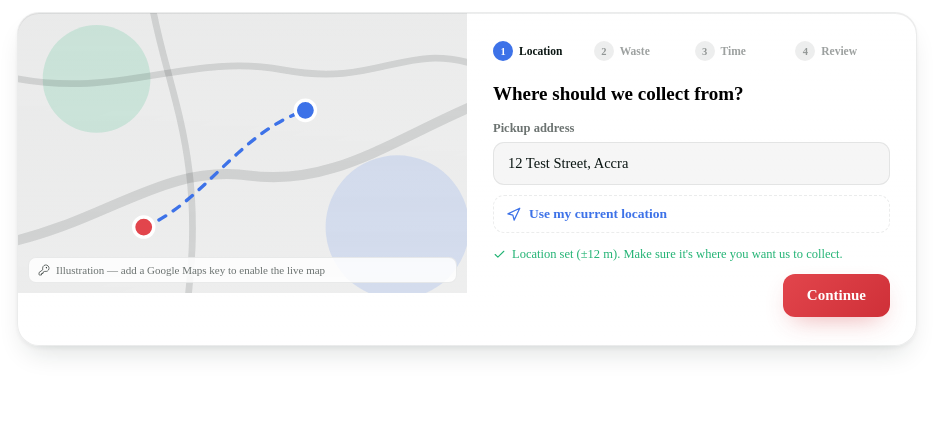
BookingFlow › shows a clear error, books nothing, and retries with the SAME idempotency key
Earlier steps of the test are not shown.
Expected: the text "Location set (±12 m). Make sure it's where you want us to collect." is shown, [493,245,890,264]
Click the button "Continue" at (836, 295), box [783,274,890,317]
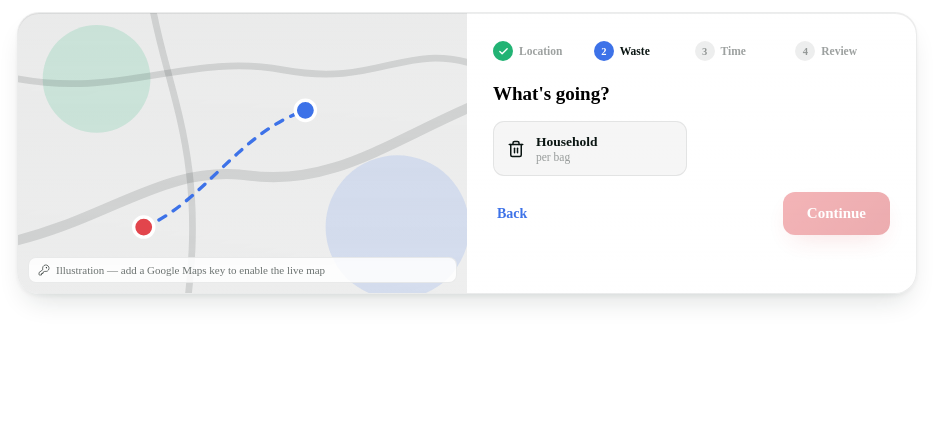
Click the button "Household per bag" at (590, 148), box [493,121,686,176]
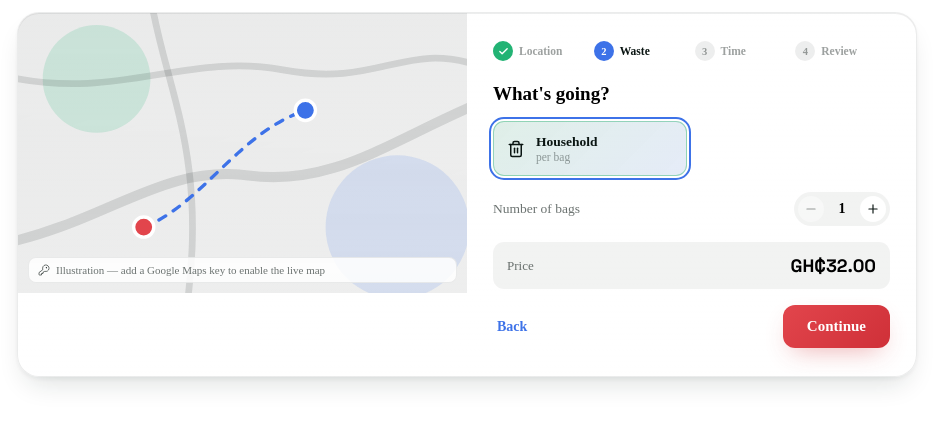
Expected: the text "GH₵32.00" is shown, [791,254,876,277]
Click the button "Continue" at (836, 326), box [783,305,890,348]
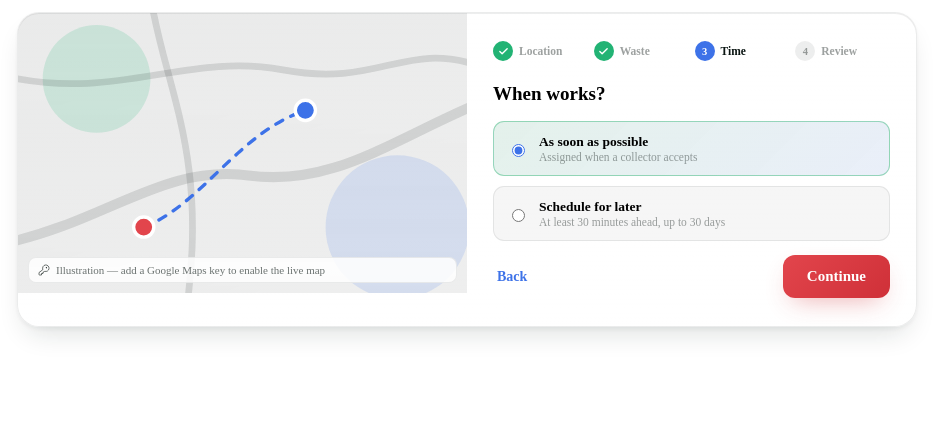
Click the button "Continue" at (836, 276), box [783,255,890,298]
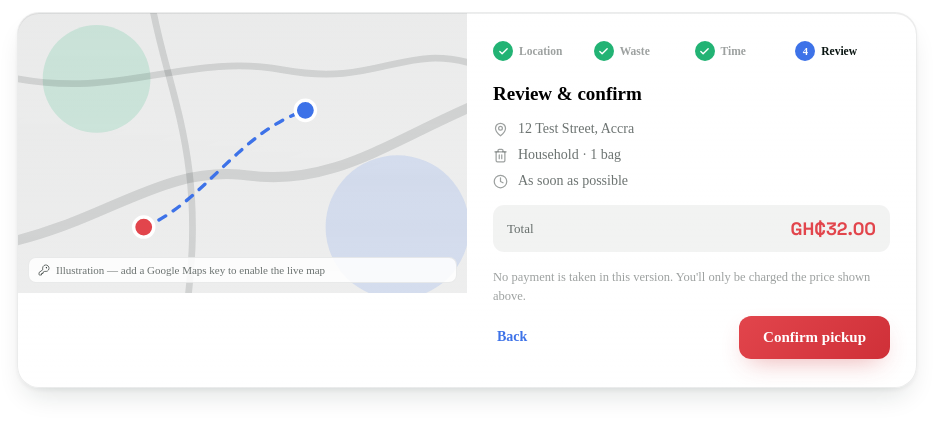
Click the button "Confirm pickup" at (815, 337), box [739,316,890,358]
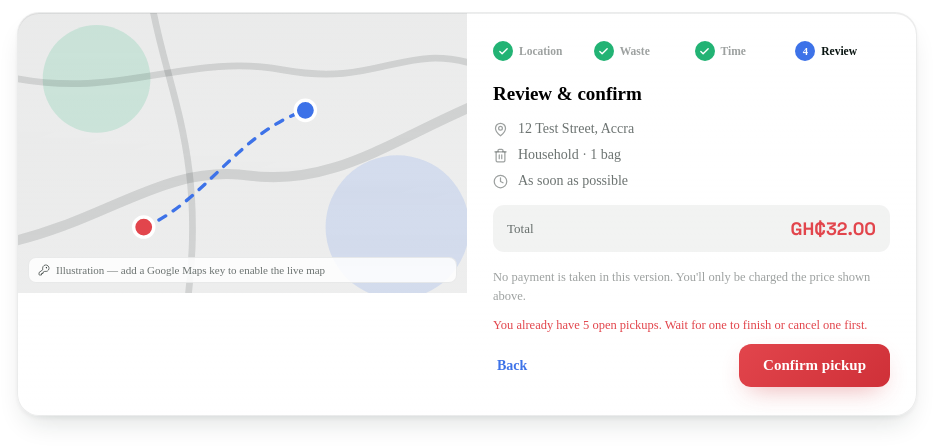
Expected: the text "pickup requested" is not shown
Expected: the message shows "5 open pickups", [493,318,868,332]
Click the button "Confirm pickup" at (815, 366), box [739,344,890,387]
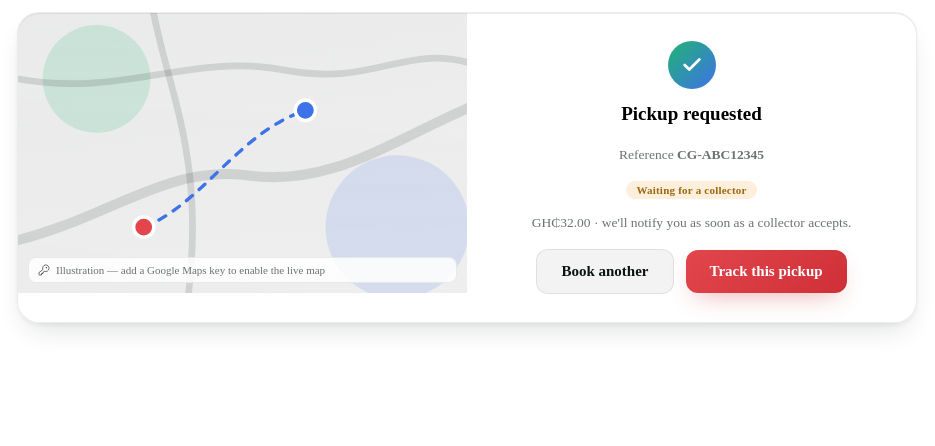
Expected: the text "CG-ABC12345" is shown, [677,147,764,162]
